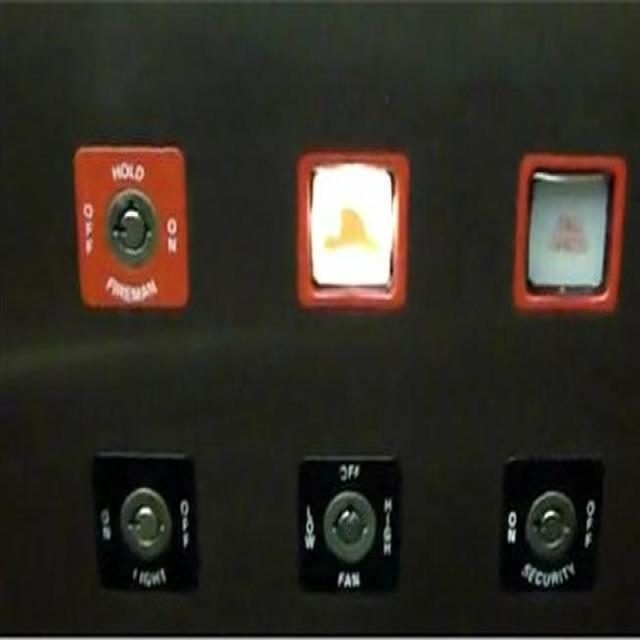bt_keyhole: (69, 140, 188, 312), (496, 453, 609, 608), (88, 456, 199, 604), (292, 456, 402, 596)
hat: (511, 143, 625, 314), (294, 148, 407, 312)
